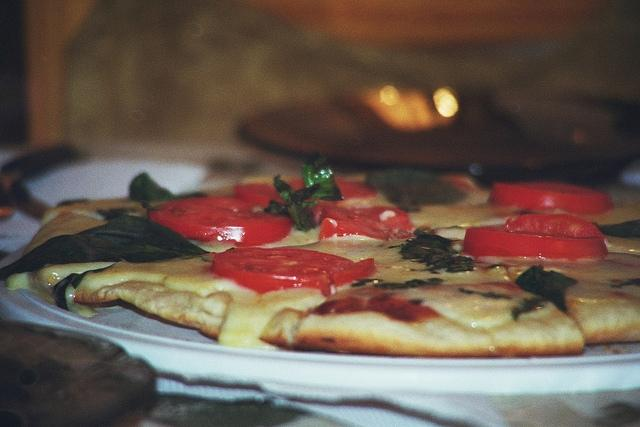tomato: (150, 196, 292, 247), (212, 247, 354, 297), (462, 214, 608, 259), (490, 182, 612, 214), (313, 206, 411, 231), (319, 218, 389, 242), (233, 184, 284, 208), (444, 175, 478, 194)
